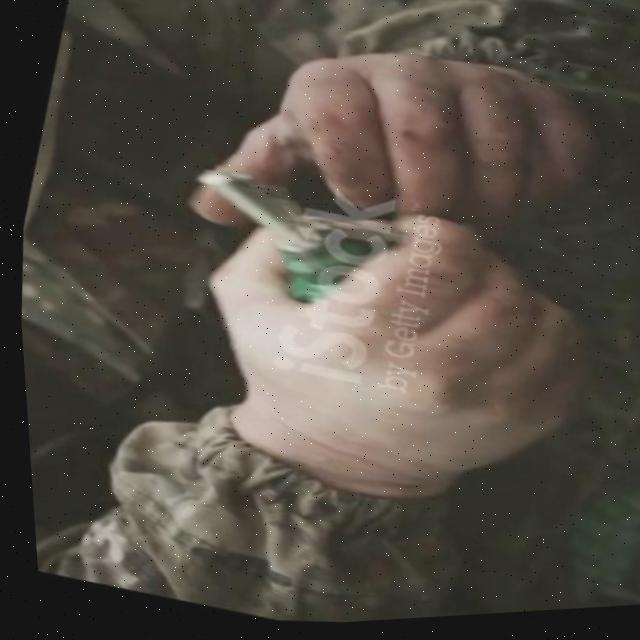grenade: (164, 157, 414, 329)
